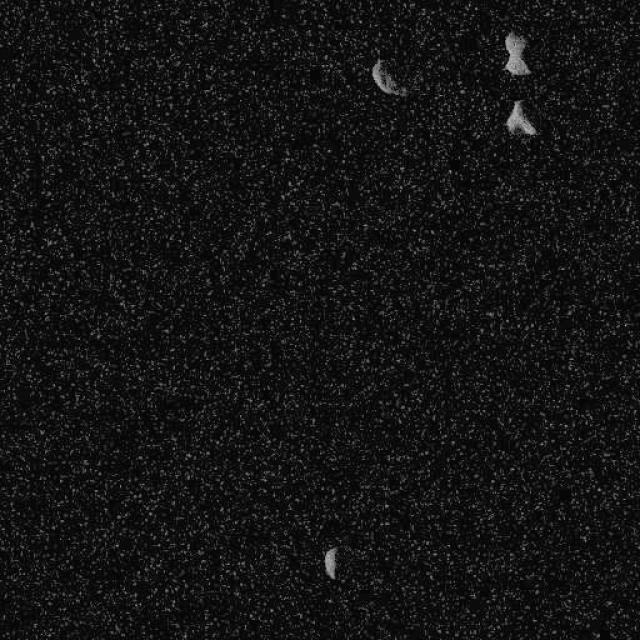D2: (370, 58, 408, 98), (501, 30, 531, 75), (504, 99, 536, 136), (322, 545, 338, 580)
